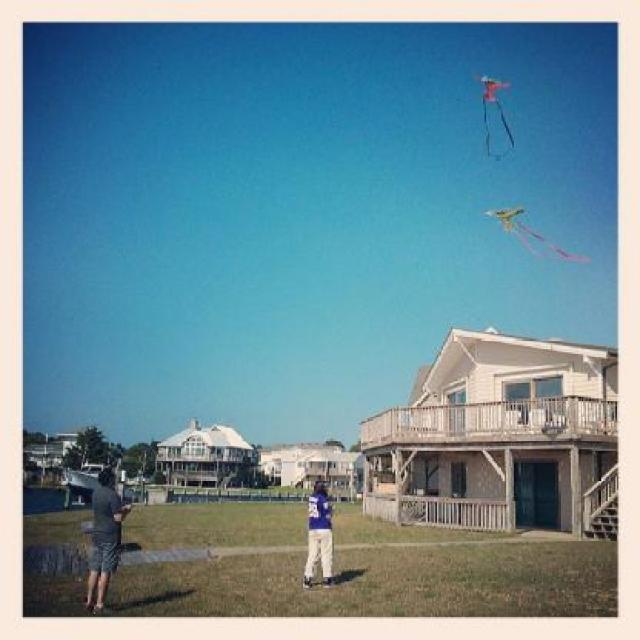ship: (59, 462, 115, 503)
